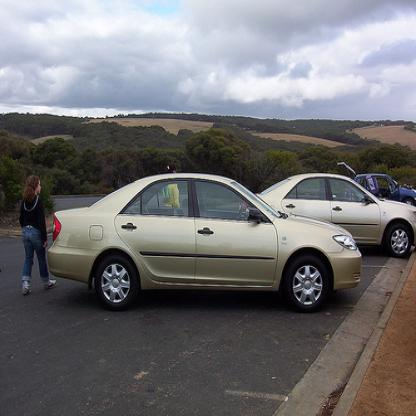car: (48, 174, 364, 312), (257, 176, 416, 260), (355, 174, 416, 206)
person: (21, 175, 58, 297), (164, 163, 182, 213)
